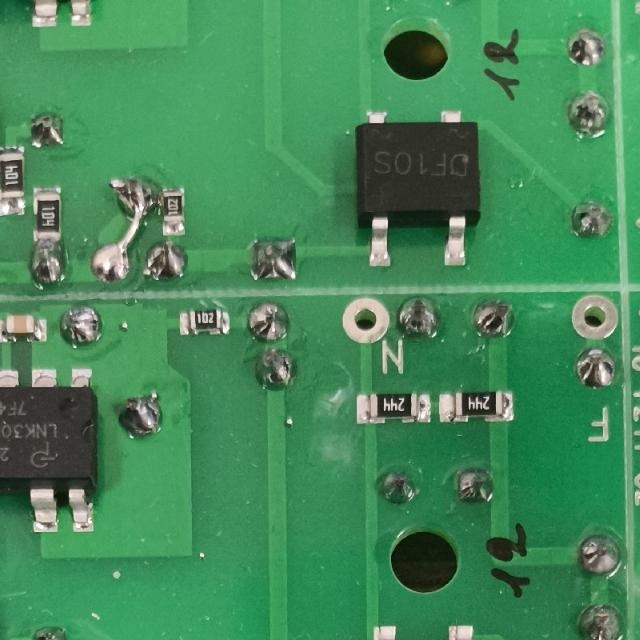chip-capacitor: (0, 315, 51, 343)
chip-resistor: (356, 391, 433, 426), (439, 390, 515, 424), (30, 183, 64, 246), (0, 145, 28, 218), (177, 307, 234, 337), (159, 183, 189, 238)
ic: (357, 107, 485, 270), (0, 363, 103, 534)
